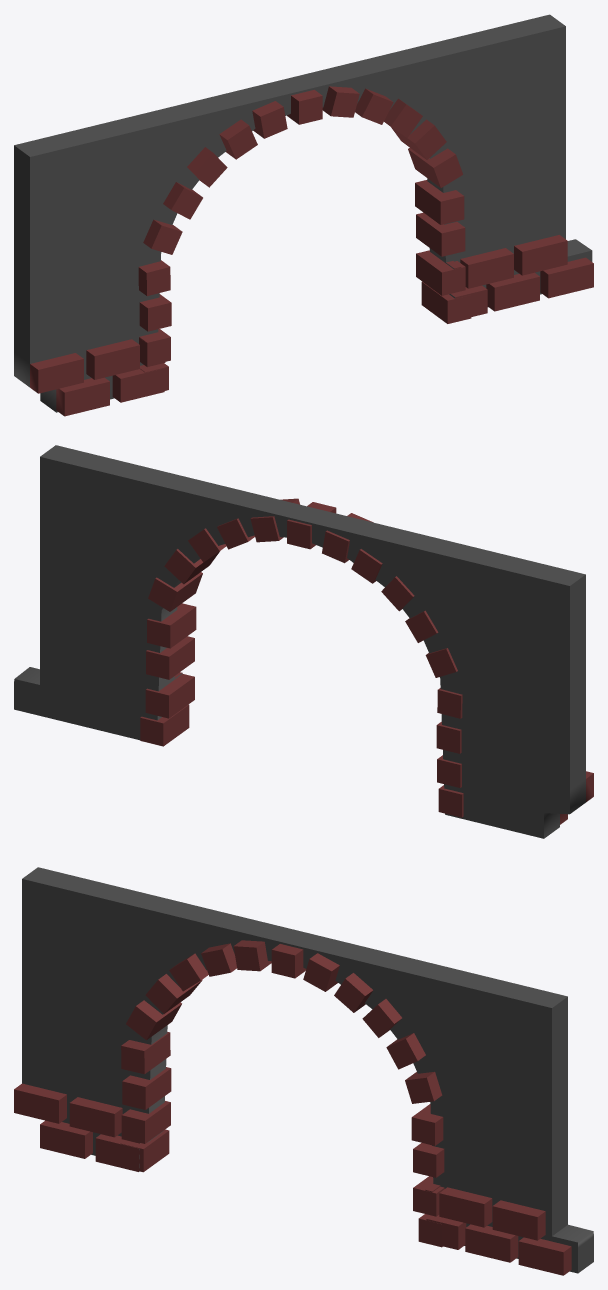
File: parede_arco.fbx
The picture shows the model from 3 angles, top to bottom: view 1: azimuth 30°, elevation 25°; view 2: azimuth 150°, elevation 25°; view 3: azimuth 330°, elevation 25°; orthographic projection.
Parts seen in each view (by area): view 1: pCube45; view 2: pCube45; view 3: pCube45.
Part boxes in pixels (bbox=[...]): pCube45: bbox=[14, 14, 593, 416]; pCube45: bbox=[14, 445, 593, 838]; pCube45: bbox=[14, 867, 593, 1275].
Size of the model in its own units: 11.33 by 5.05 by 0.9187.
